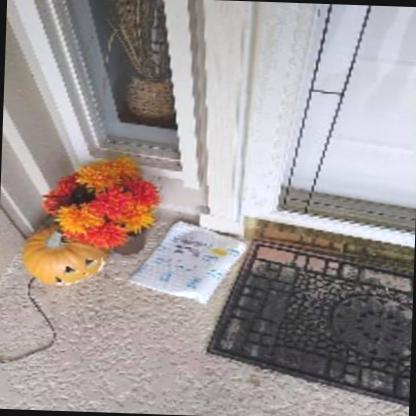plastic_bag: (127, 217, 252, 305)
